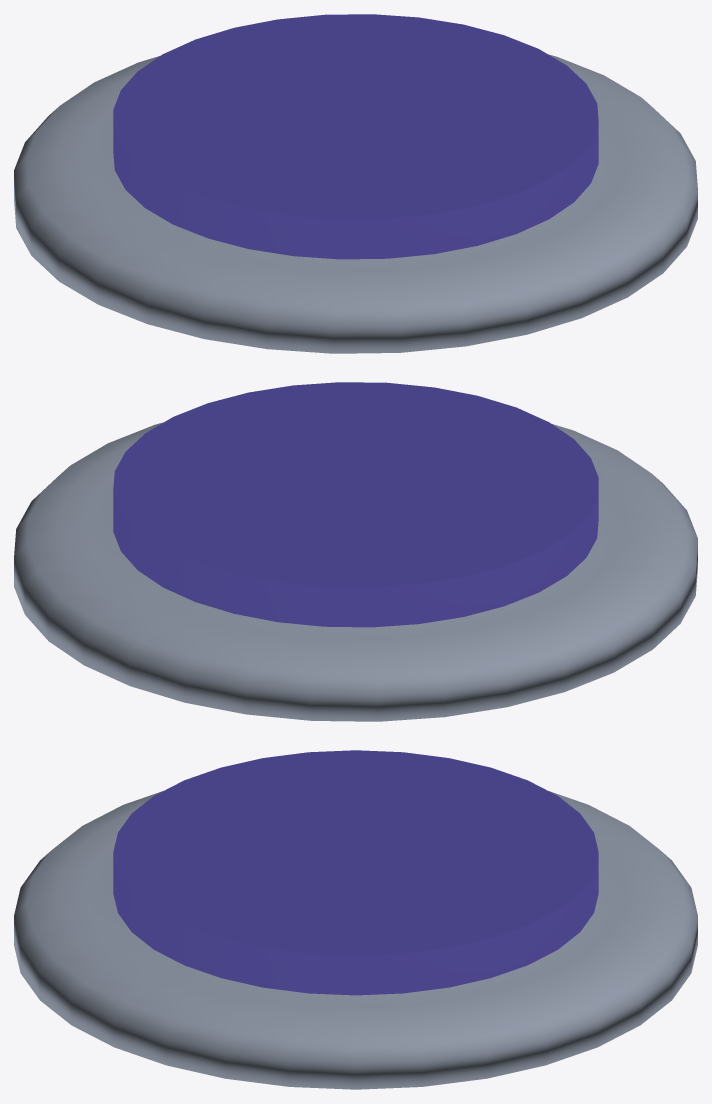
File: button.fbx
The picture shows the model from 3 angles, top to bottom: view 1: azimuth 30°, elevation 25°; view 2: azimuth 150°, elevation 25°; view 3: azimuth 270°, elevation 25°; orthographic projection.
Visible parts, largest first — view 1: button; view 2: button; view 3: button.
Boxes of the visible parts, left/top/right/bottom form: button: left=14, top=14, right=697, bottom=353; button: left=14, top=382, right=697, bottom=721; button: left=14, top=750, right=697, bottom=1089.
Bounding box in the file's own units: 78.91 × 11.75 × 78.91.
